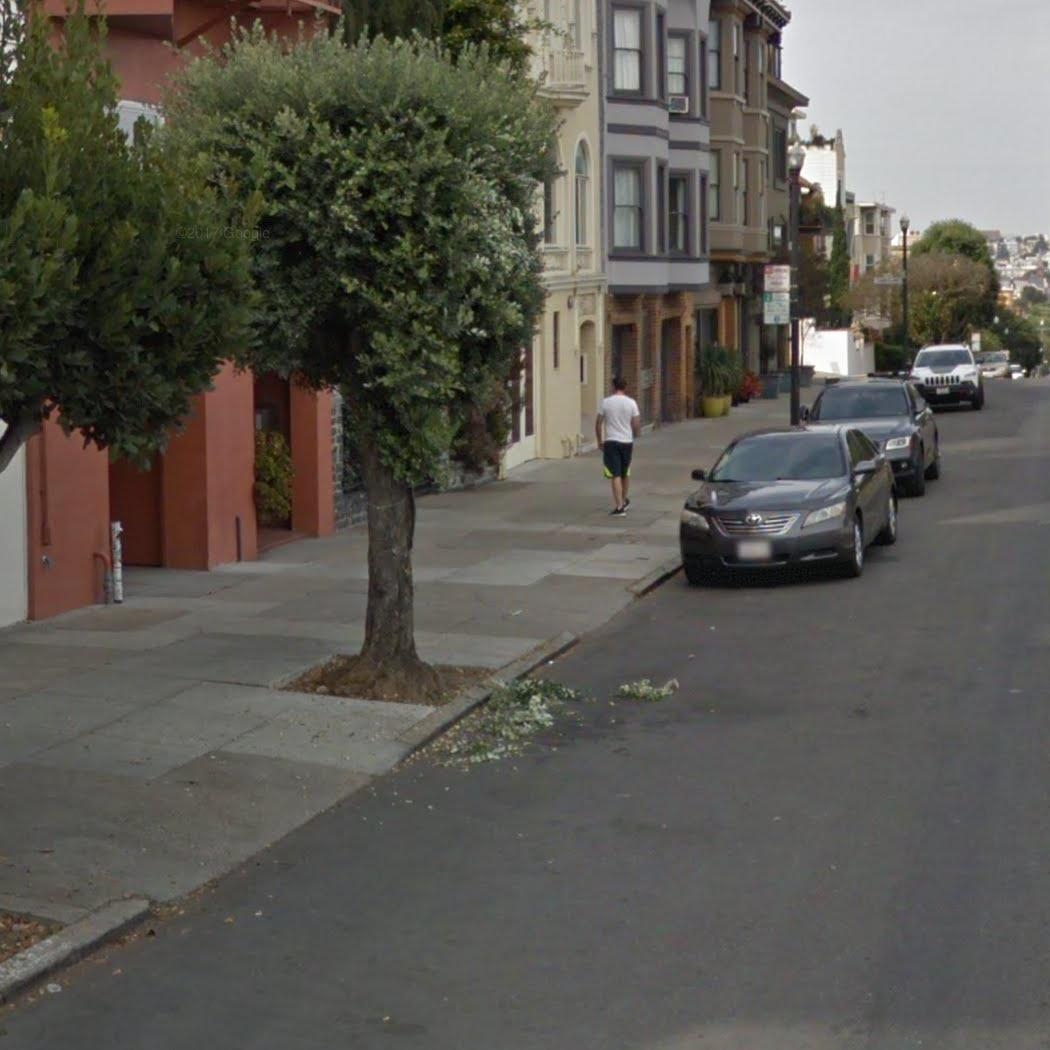2 Hour Parking: (761, 293, 791, 327)
No Parking: (761, 263, 791, 293)
